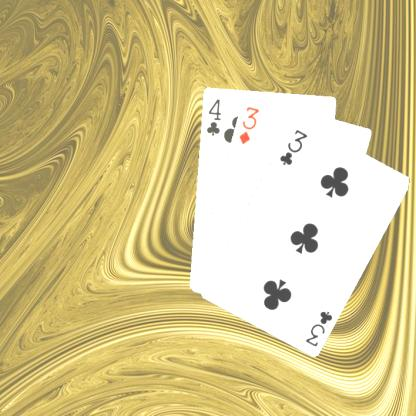3C: (277, 126, 309, 166), (302, 308, 334, 348)
3D: (236, 103, 261, 146)
4C: (204, 96, 222, 137)
